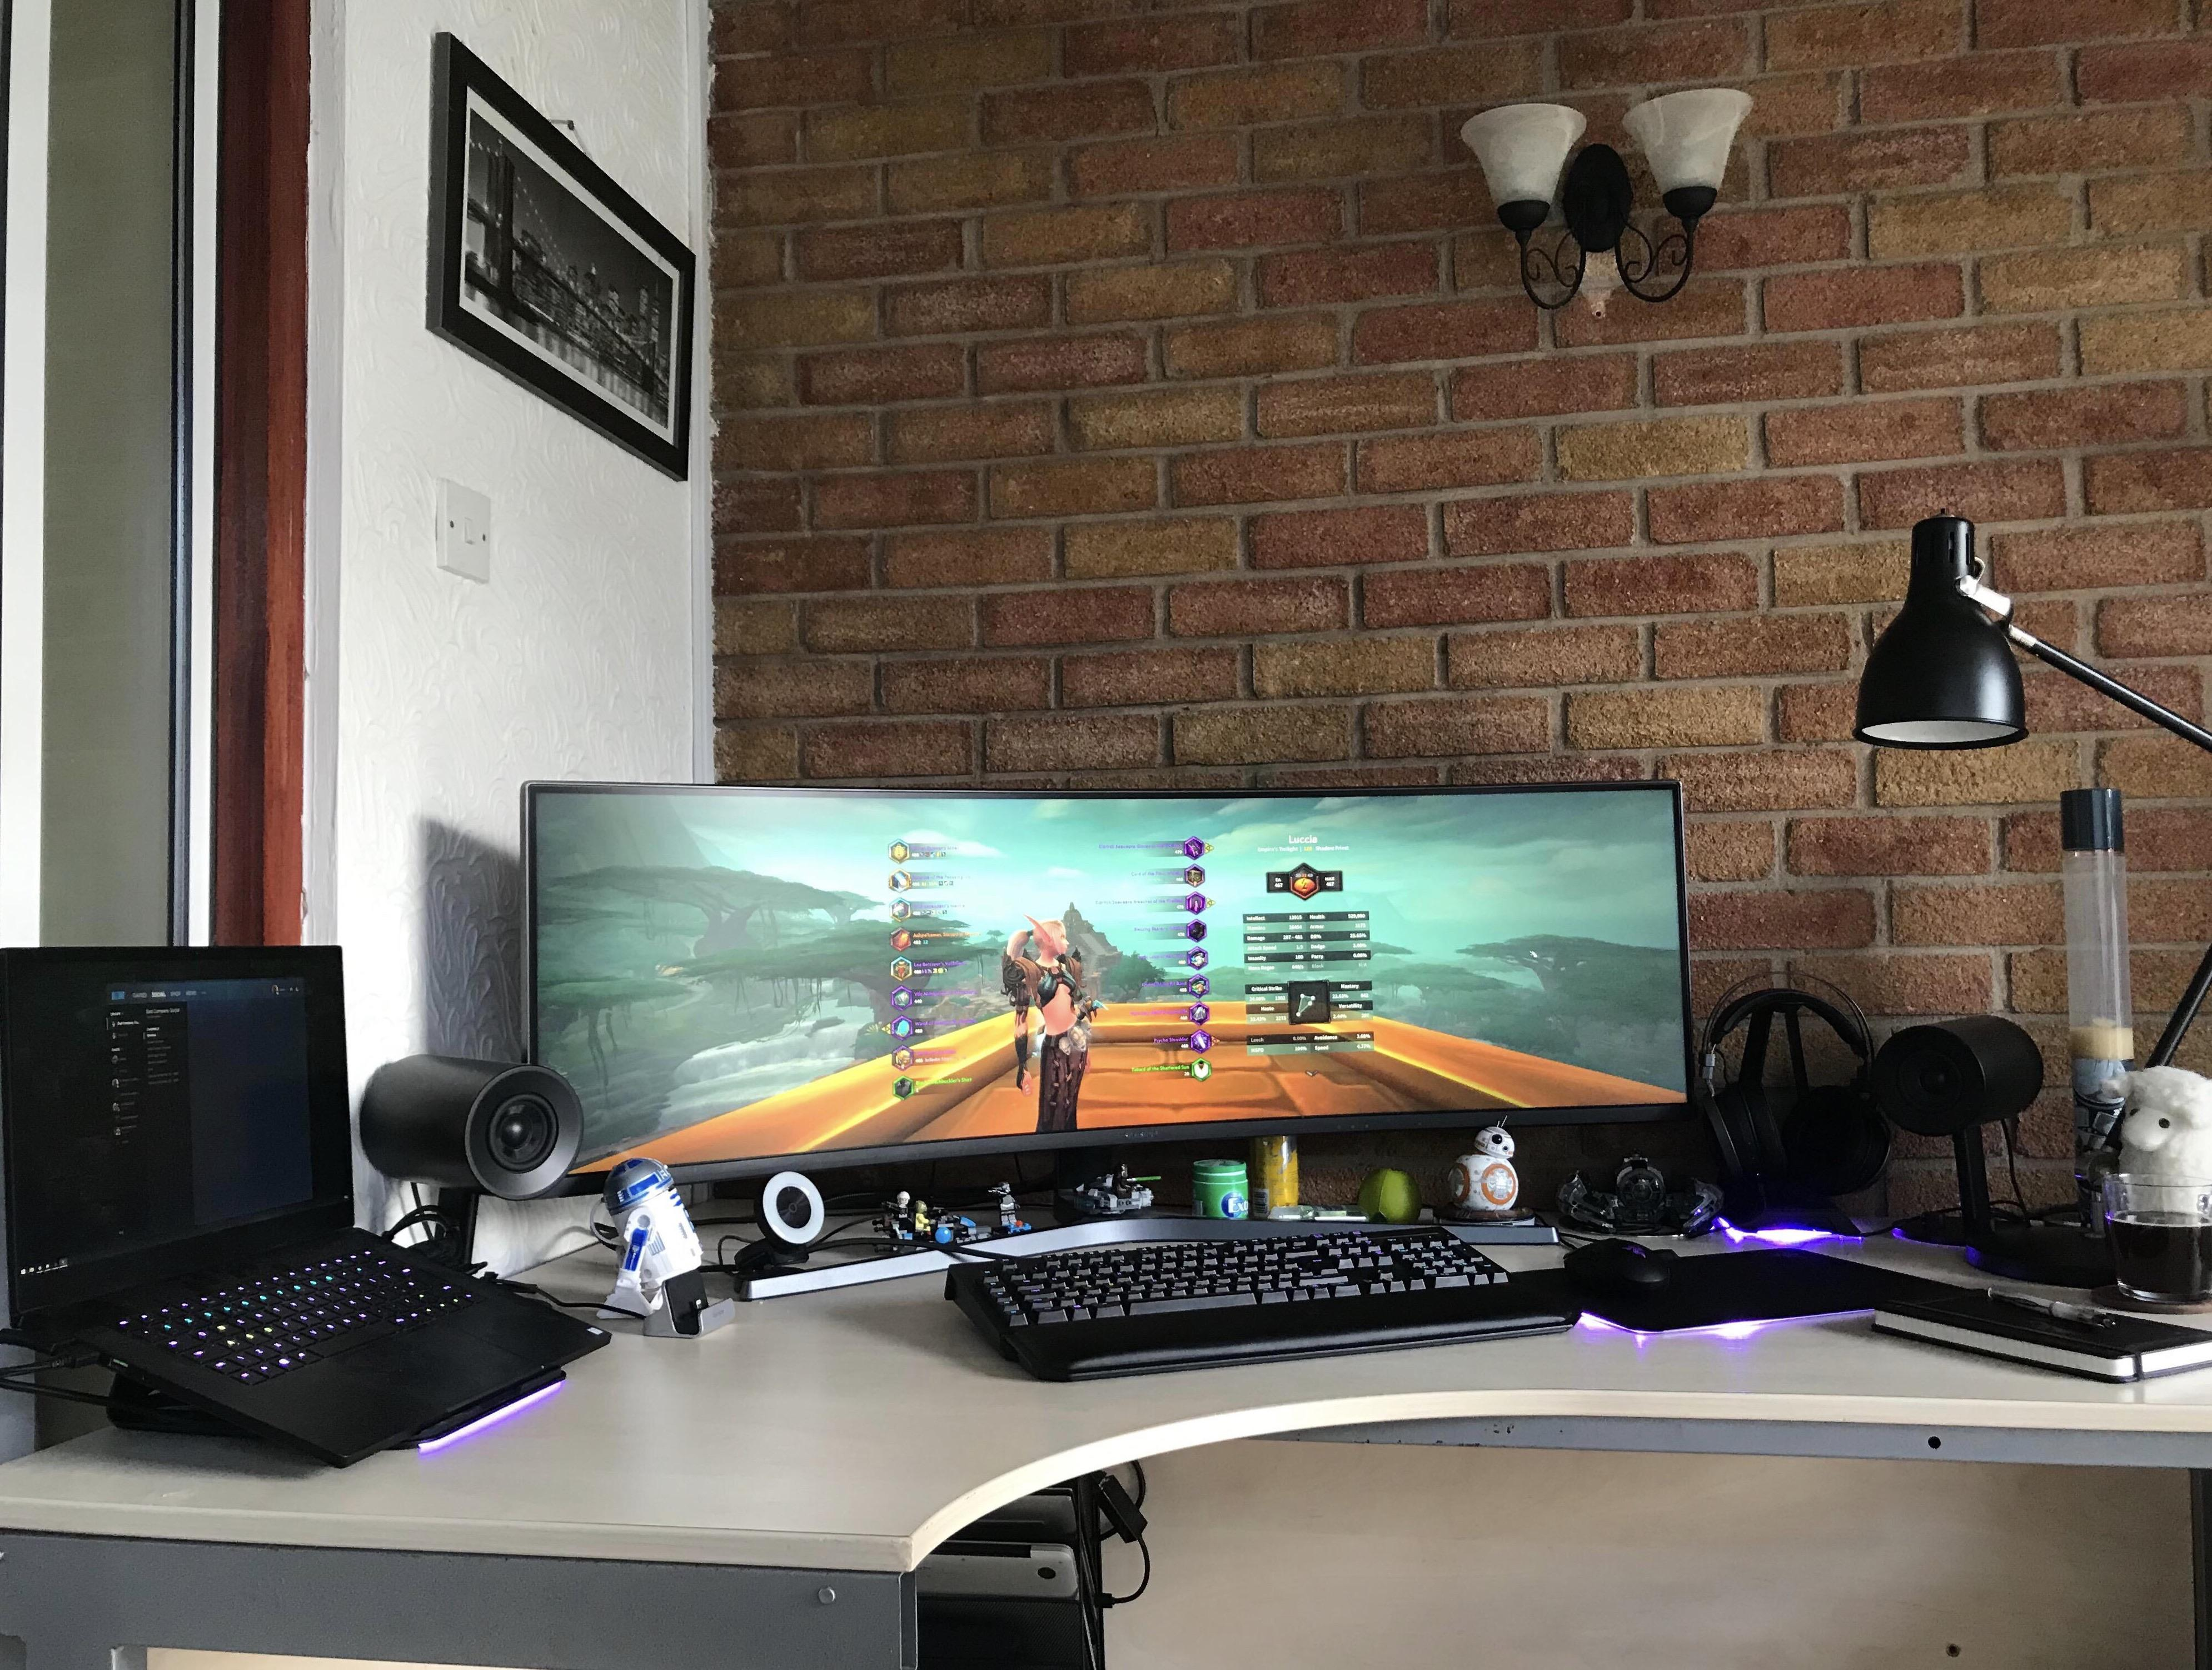Decoration (Miniature): (584, 1138, 717, 1326), (2094, 1044, 2212, 1210), (870, 1167, 1047, 1268), (1438, 1100, 1545, 1237)
Decoration (Picture): (363, 28, 737, 491)
Desk (Generic): (0, 1154, 2212, 1670)
Drink Coaster: (2066, 1268, 2212, 1323)
External Webcam: (351, 1035, 600, 1284), (1856, 996, 2054, 1247), (731, 1165, 837, 1312)
Headphones: (1659, 953, 1898, 1203)
Keyboard (Ergonomic): (928, 1196, 1612, 1398)
Lamp (Desk): (1831, 477, 2212, 1291)
Laptop (Generic): (0, 909, 626, 1481)
Monitor (Landscape): (472, 760, 1737, 1224)
Monitor (Laptop): (0, 933, 367, 1314)
Mouse (Ergonomic): (1563, 1219, 1670, 1296)
Mousepad (Gaming): (1514, 1228, 1931, 1349)
Mug: (2075, 1165, 2212, 1289)
Notebook: (1865, 1286, 2205, 1381)
Phone Holder: (630, 1256, 744, 1345)
